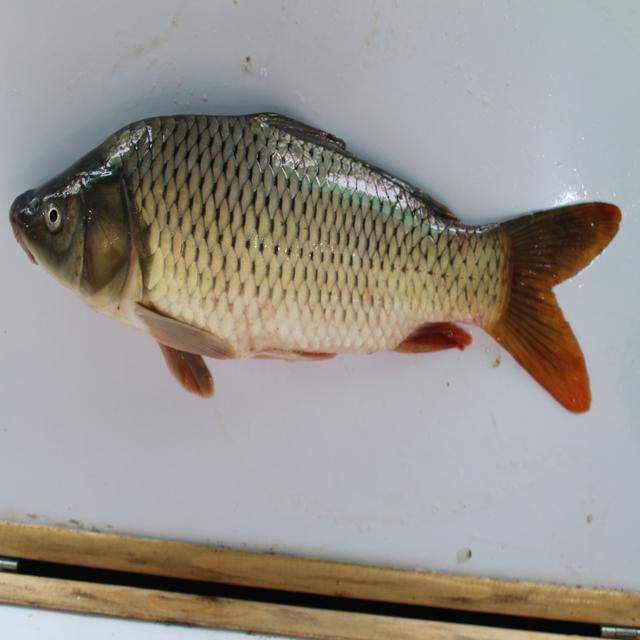CommonCarp: (14, 105, 626, 427)
